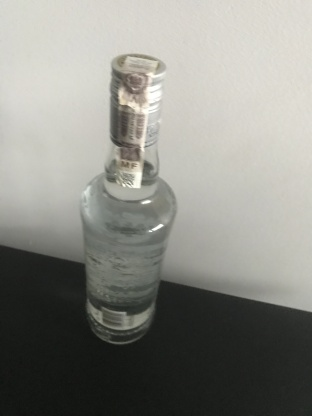nakretka: (107, 51, 167, 147)
